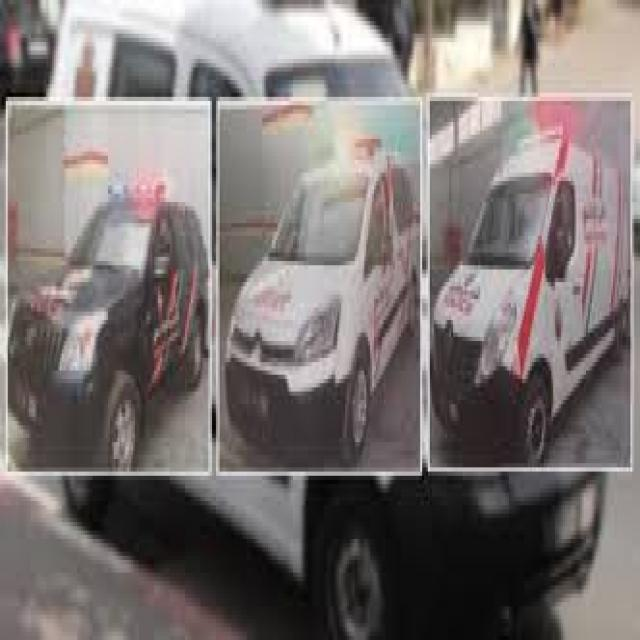police: (430, 130, 632, 456), (224, 137, 412, 466), (6, 183, 219, 473)
